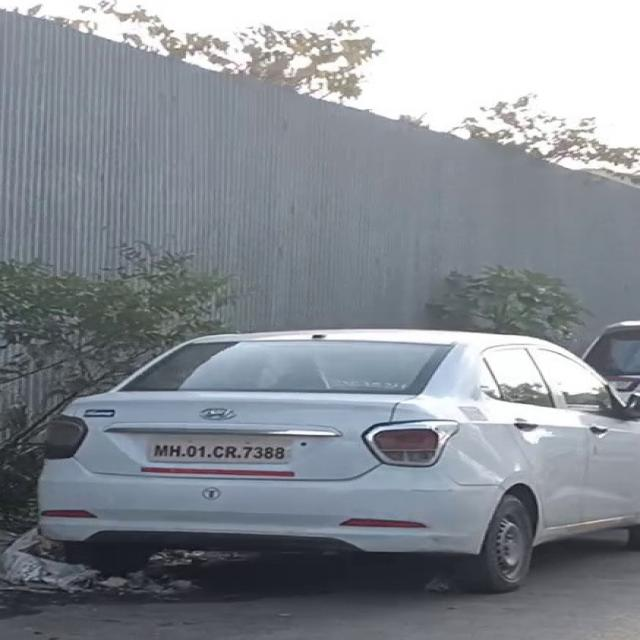Plate: (143, 435, 293, 465)
